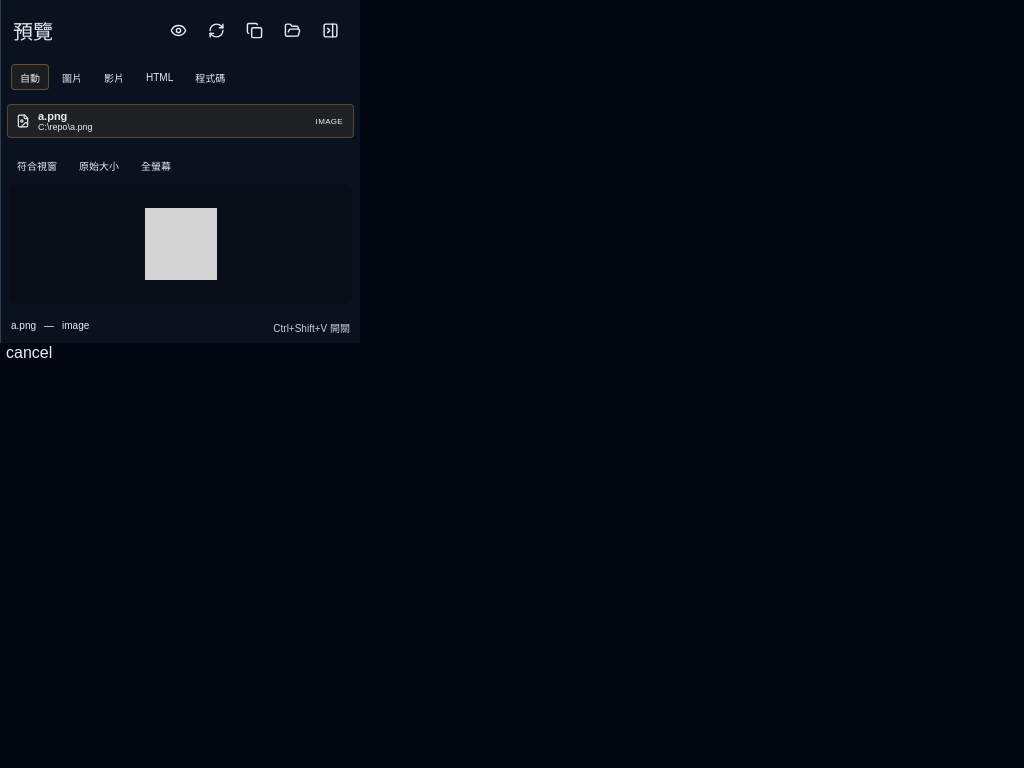
Test case: PreviewDock › Escape closes lightbox without bubbling cancel-turn intent
The image size is (1024, 768).
Click the button "全螢幕" at point(156, 165), box [133,152,179,178]
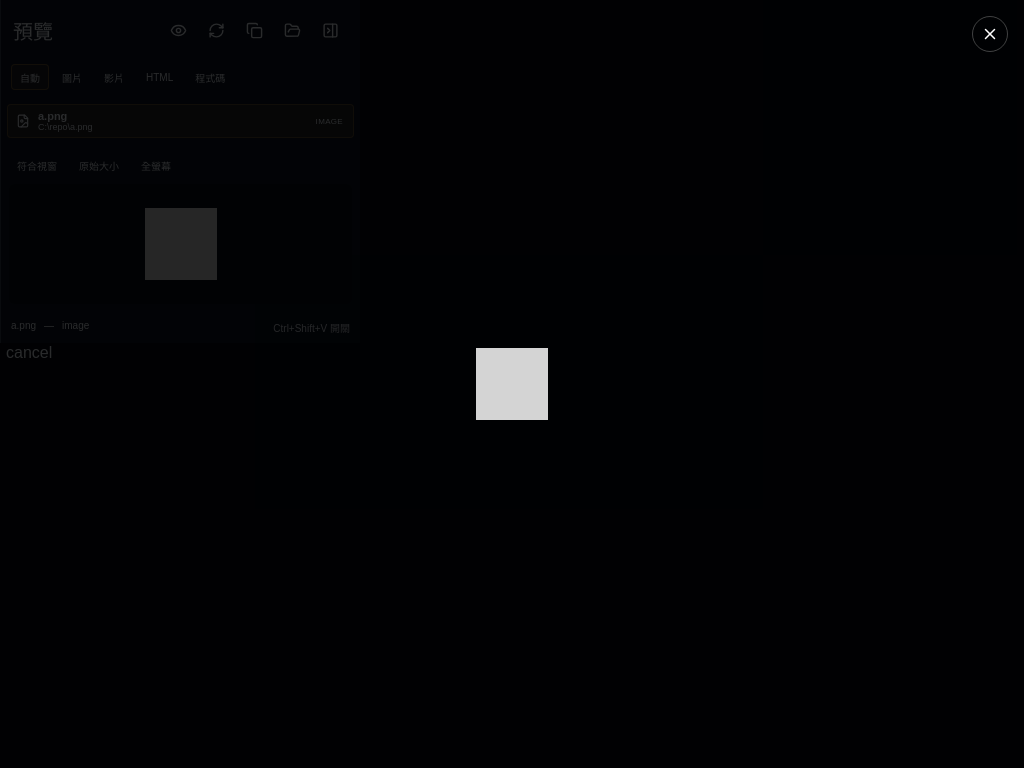
Now the dialog with test id "preview-lightbox" is shown
Note: Capture-phase Escape handler inside dock should close lightbox
Press Escape
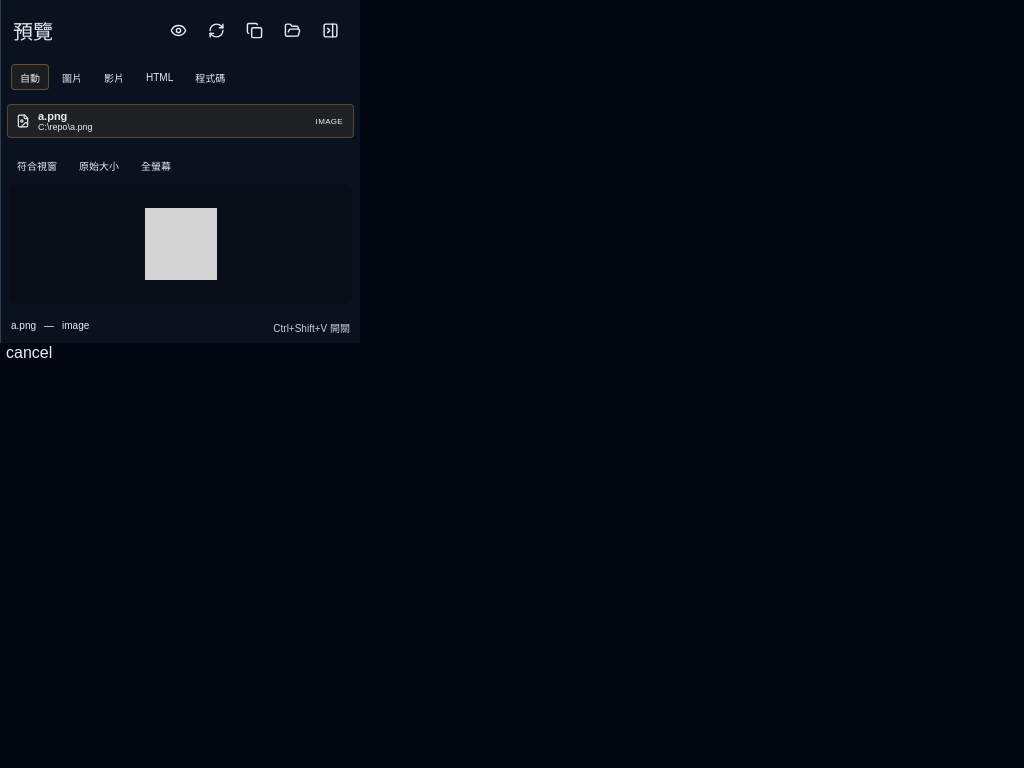
Now the dialog with test id "preview-lightbox" is gone
